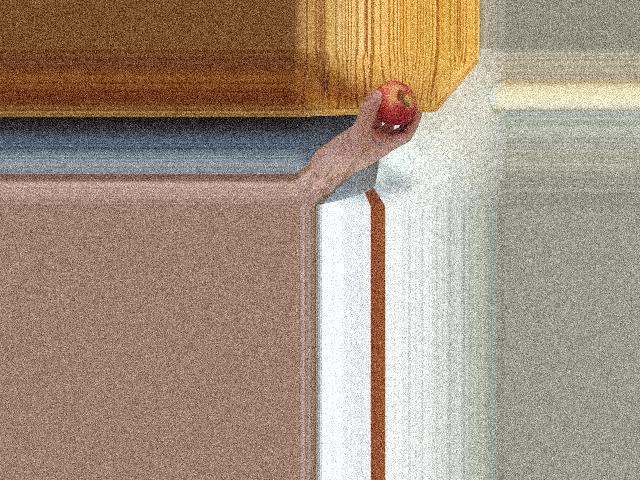apple: (371, 82, 418, 126)
